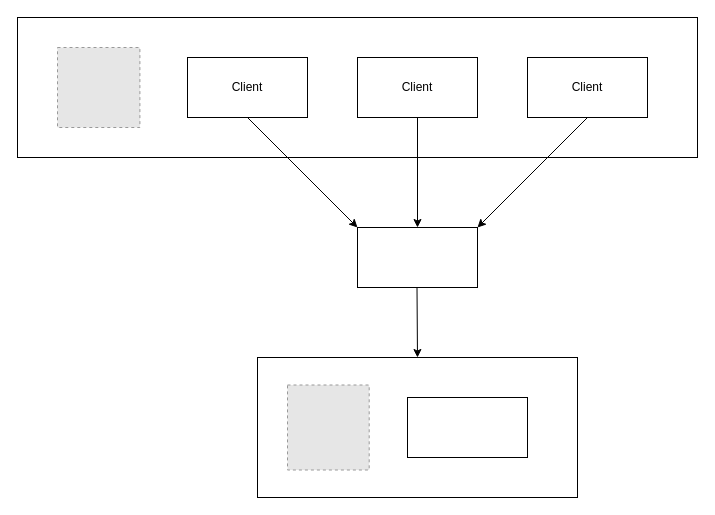
This 715x515 diagram has some shape labels left out. Grey dashed boxes stand in for pictures. Here are the shapes that lost their labels. From the top down, the centre of each, then its label:
At point (417, 257): "Collector".
At point (467, 427): "Dashboards".
